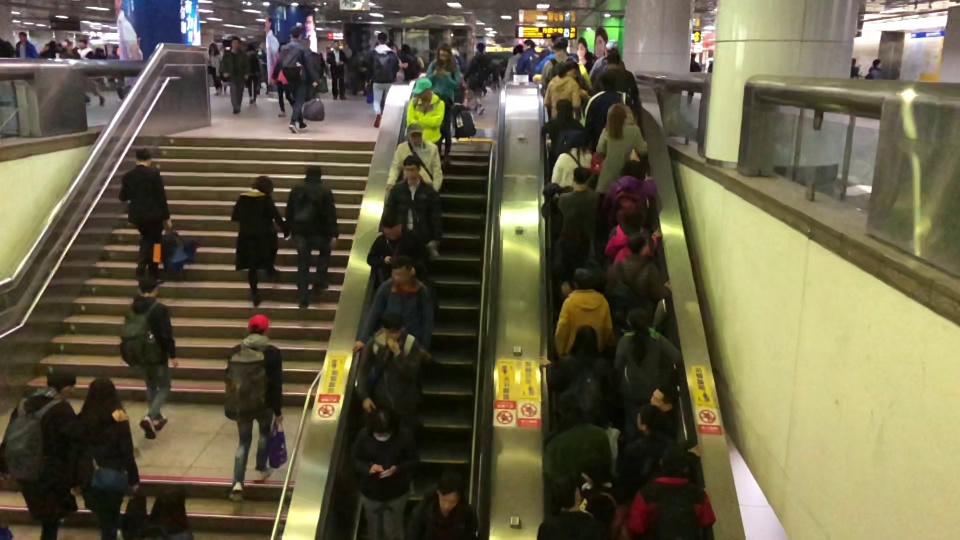person_head: (150, 487, 188, 527), (436, 471, 466, 515), (550, 473, 583, 512), (570, 322, 599, 360), (368, 407, 399, 442), (85, 377, 118, 408), (45, 369, 77, 399), (635, 404, 664, 436), (659, 446, 689, 476), (650, 384, 681, 413), (581, 454, 609, 484), (606, 103, 628, 138), (389, 256, 416, 282), (556, 390, 581, 418), (381, 310, 403, 340), (380, 212, 402, 240), (410, 77, 433, 103), (618, 160, 646, 181), (616, 206, 645, 226), (625, 307, 649, 331), (562, 209, 586, 232), (571, 266, 595, 288), (137, 276, 160, 298), (250, 175, 274, 196), (402, 154, 421, 180), (571, 166, 592, 189), (599, 71, 622, 91), (248, 314, 269, 335), (559, 61, 581, 81), (625, 234, 647, 253), (406, 123, 423, 146), (555, 98, 573, 119), (566, 129, 584, 149), (135, 147, 152, 167), (437, 42, 452, 63), (553, 36, 570, 53), (604, 39, 620, 57), (305, 165, 321, 180), (289, 26, 303, 41), (551, 31, 564, 47), (230, 35, 242, 50), (522, 39, 536, 51), (607, 53, 620, 65), (475, 42, 486, 54), (17, 31, 28, 42), (207, 42, 218, 53), (513, 44, 524, 55), (277, 42, 287, 54), (377, 32, 387, 44), (78, 38, 88, 48), (245, 43, 255, 53), (873, 57, 882, 68), (302, 37, 310, 47), (689, 51, 697, 60), (332, 39, 339, 49), (850, 56, 857, 66)
person_vbox: (0, 368, 129, 540), (356, 312, 431, 495), (69, 376, 140, 540), (225, 314, 283, 502), (120, 274, 178, 439), (350, 411, 420, 540), (620, 446, 716, 539), (542, 386, 613, 507), (352, 258, 434, 356), (541, 323, 618, 427), (285, 165, 339, 309), (385, 122, 442, 256), (231, 174, 288, 306), (614, 308, 682, 418), (119, 147, 172, 284), (602, 235, 671, 329), (620, 404, 703, 482), (380, 155, 442, 256), (553, 268, 613, 360), (271, 26, 318, 133), (406, 472, 477, 540), (533, 475, 606, 540), (596, 103, 648, 194), (368, 215, 432, 285), (425, 42, 460, 165), (601, 159, 658, 232), (585, 72, 639, 147), (559, 165, 601, 261), (551, 212, 598, 295), (603, 206, 662, 266), (578, 450, 620, 524), (406, 77, 445, 156), (367, 32, 398, 128), (542, 99, 585, 168), (591, 53, 639, 107), (538, 38, 582, 96), (552, 129, 593, 189), (545, 59, 581, 121), (74, 37, 105, 106), (268, 42, 296, 117), (532, 32, 578, 75), (463, 42, 489, 115), (221, 36, 245, 114), (588, 40, 624, 89), (300, 38, 324, 103), (325, 40, 348, 100), (516, 38, 543, 81), (243, 42, 260, 104), (683, 50, 702, 105), (206, 42, 223, 96), (503, 43, 525, 80), (14, 30, 39, 58), (864, 56, 885, 79), (848, 54, 862, 79)
